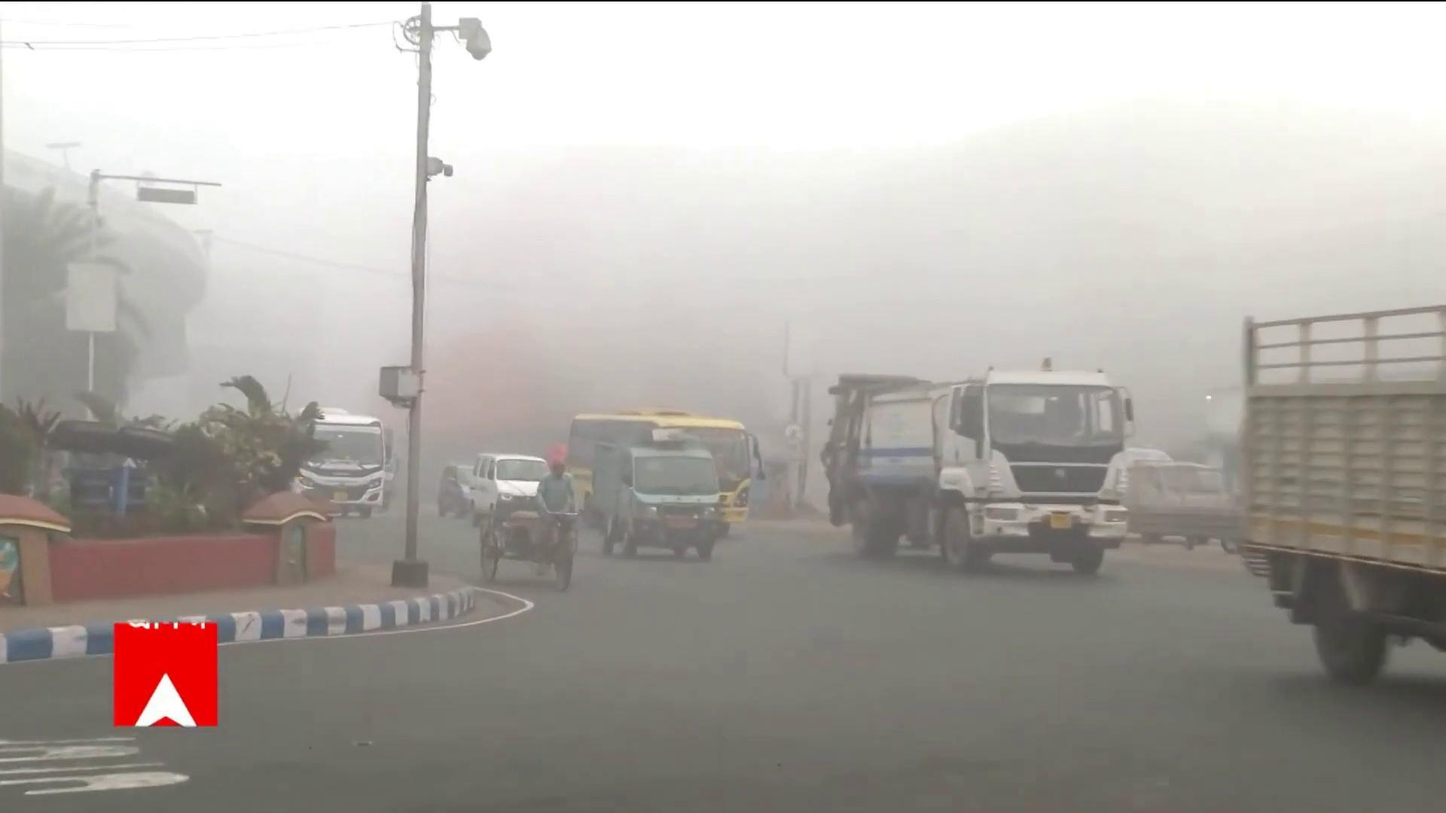Car: (467, 445, 560, 527)
Truck: (819, 360, 1146, 584), (584, 434, 742, 565)
